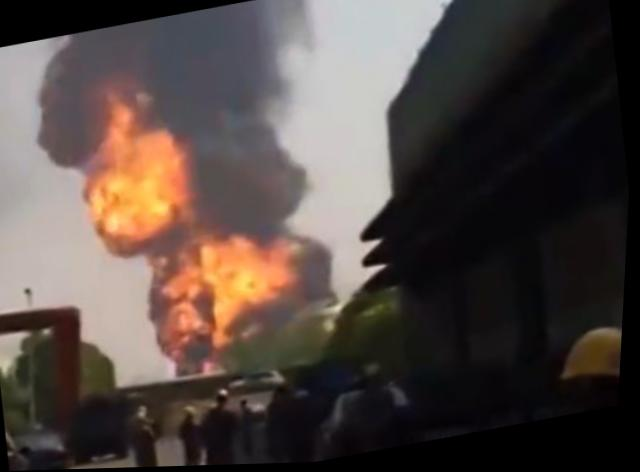fire: (77, 126, 199, 242), (198, 230, 298, 320), (162, 262, 208, 300), (101, 95, 135, 143), (167, 301, 205, 339)
